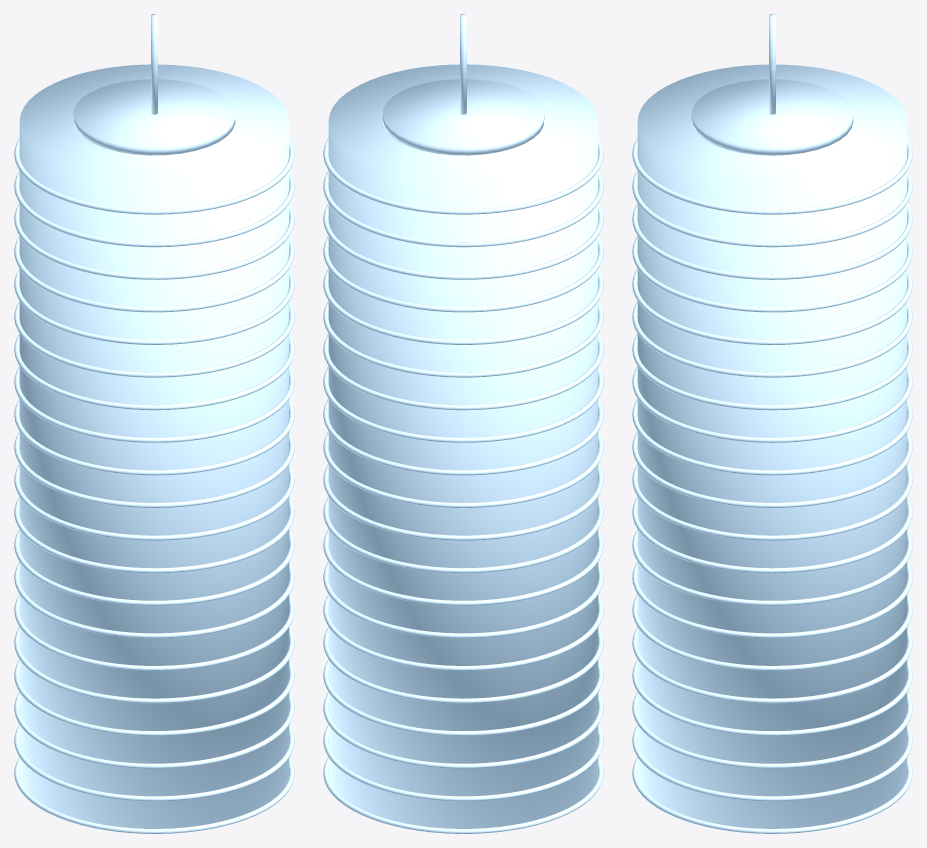
Rendered from building_cylindrical_medium.glb.
The picture shows the model from 3 angles, left to right: view 1: azimuth 30°, elevation 25°; view 2: azimuth 150°, elevation 25°; view 3: azimuth 270°, elevation 25°; orthographic projection.
Parts seen in each view (by area): view 1: CylindricalBuilding_medium; view 2: CylindricalBuilding_medium; view 3: CylindricalBuilding_medium.
Part boxes in pixels (box(x1,y1,x2,y2)): CylindricalBuilding_medium: box(14, 14, 294, 833); CylindricalBuilding_medium: box(323, 14, 603, 833); CylindricalBuilding_medium: box(632, 14, 912, 833).
Bounding box in the file's own units: 156 × 466 × 156.
